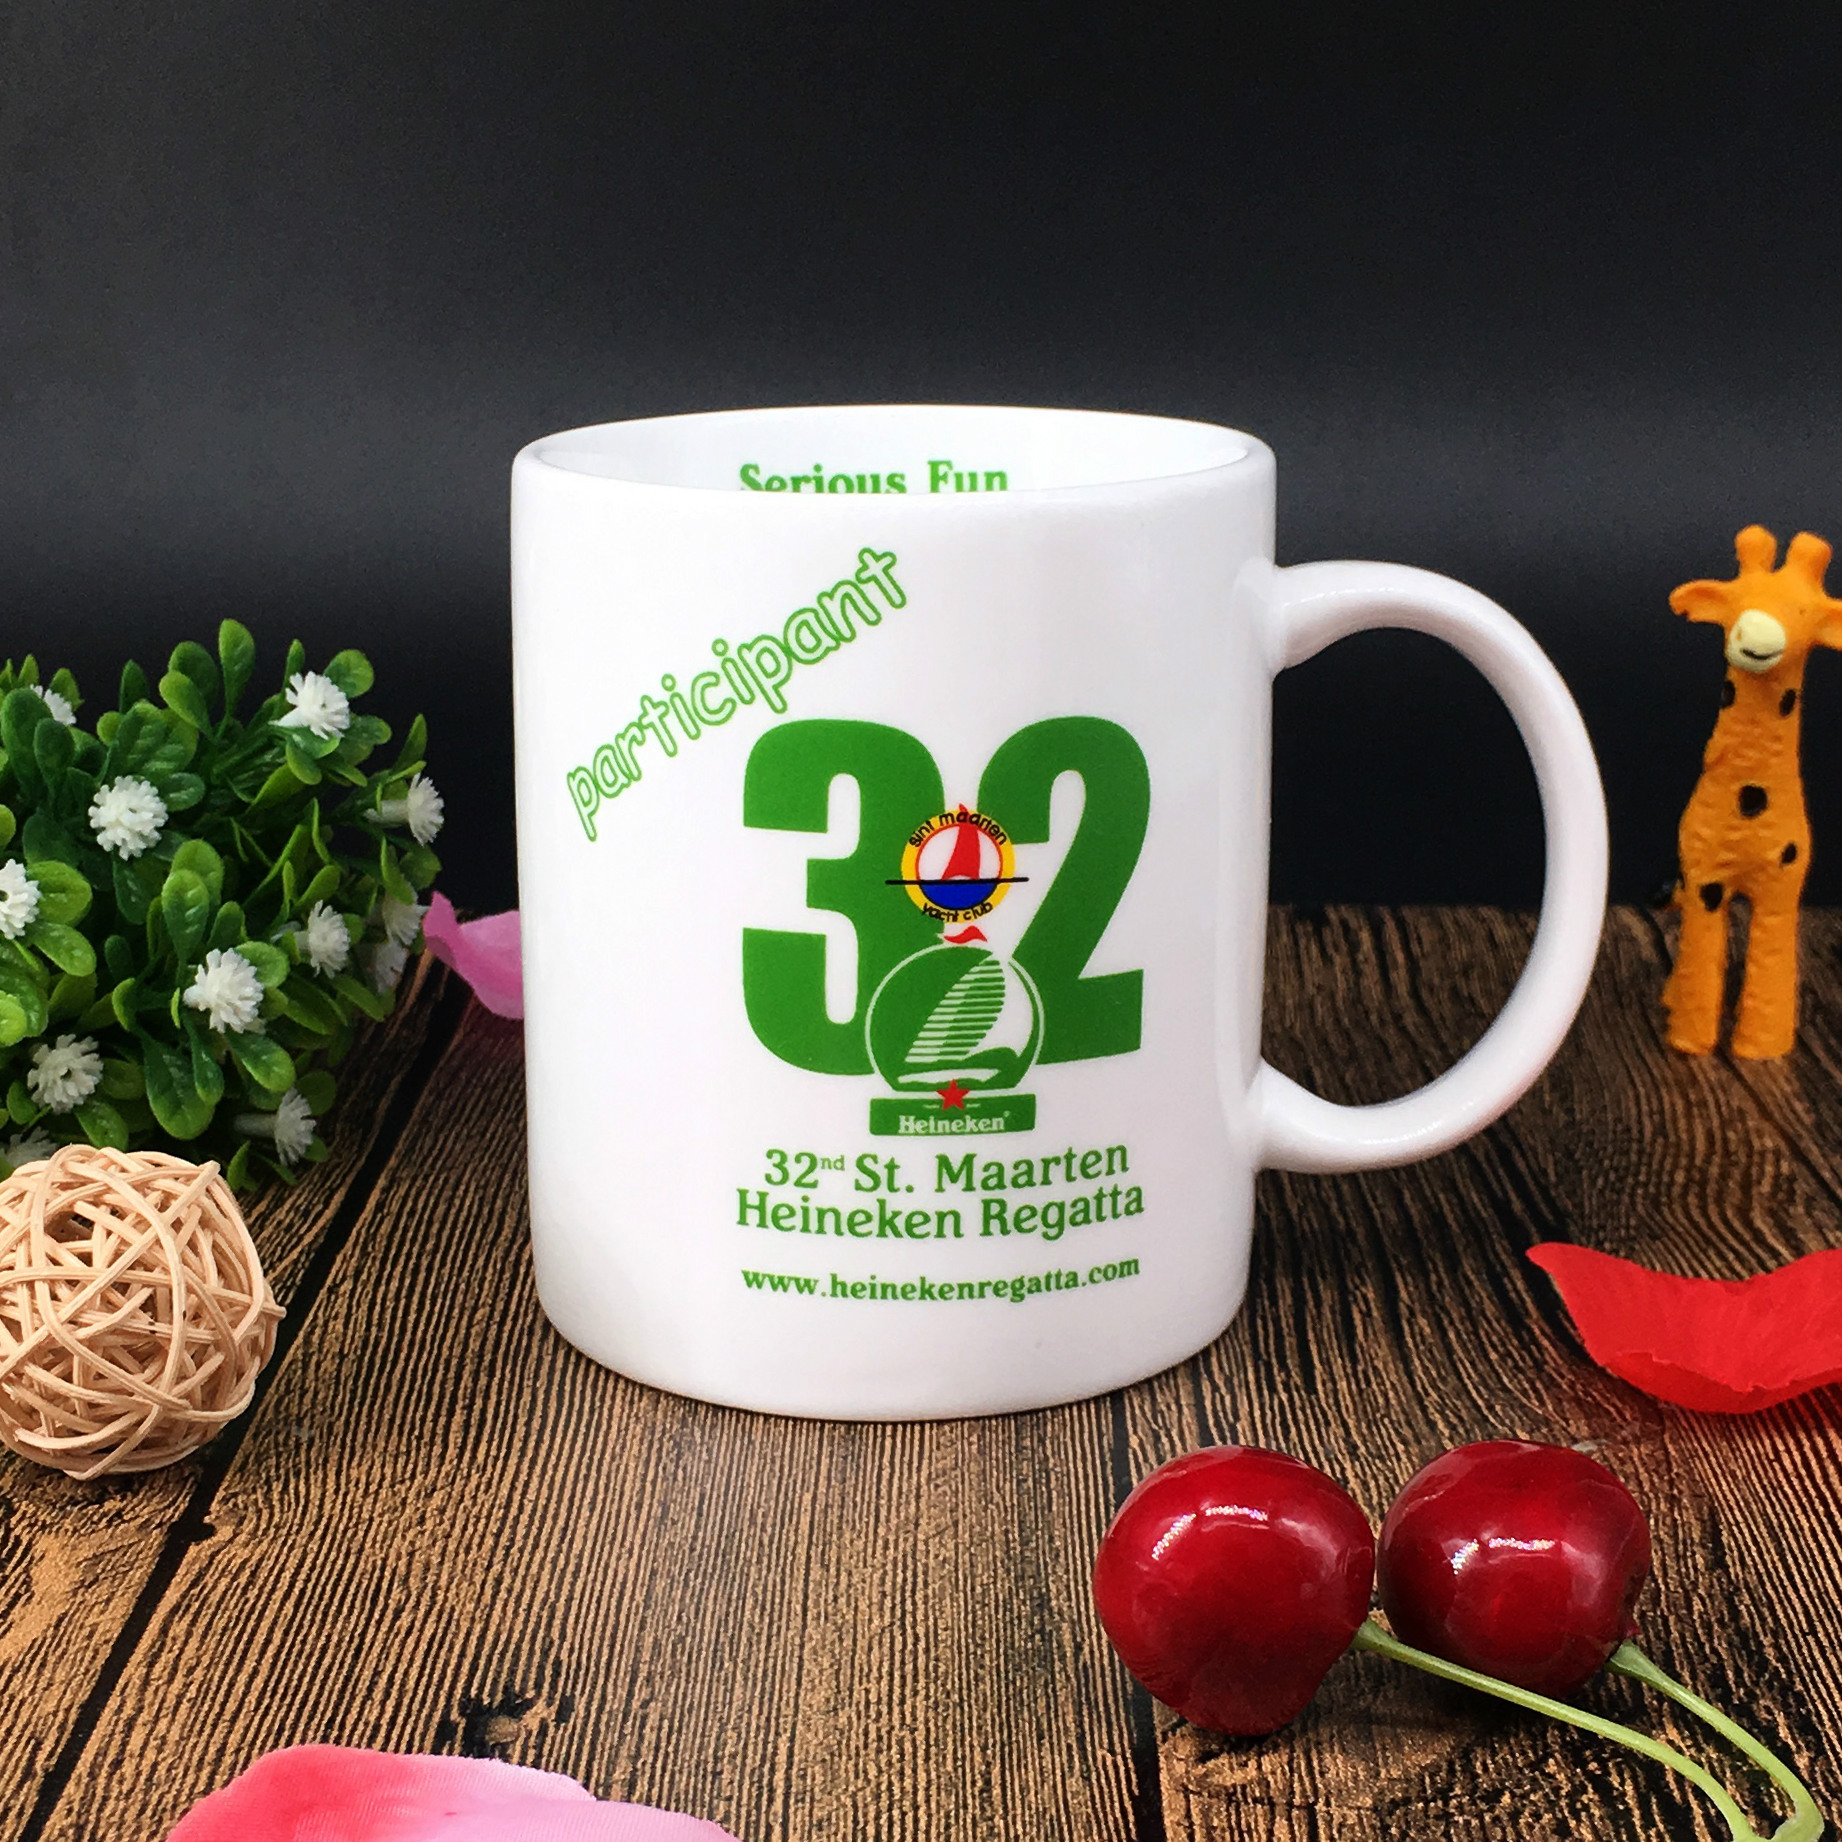cup: (498, 395, 1618, 1432)
